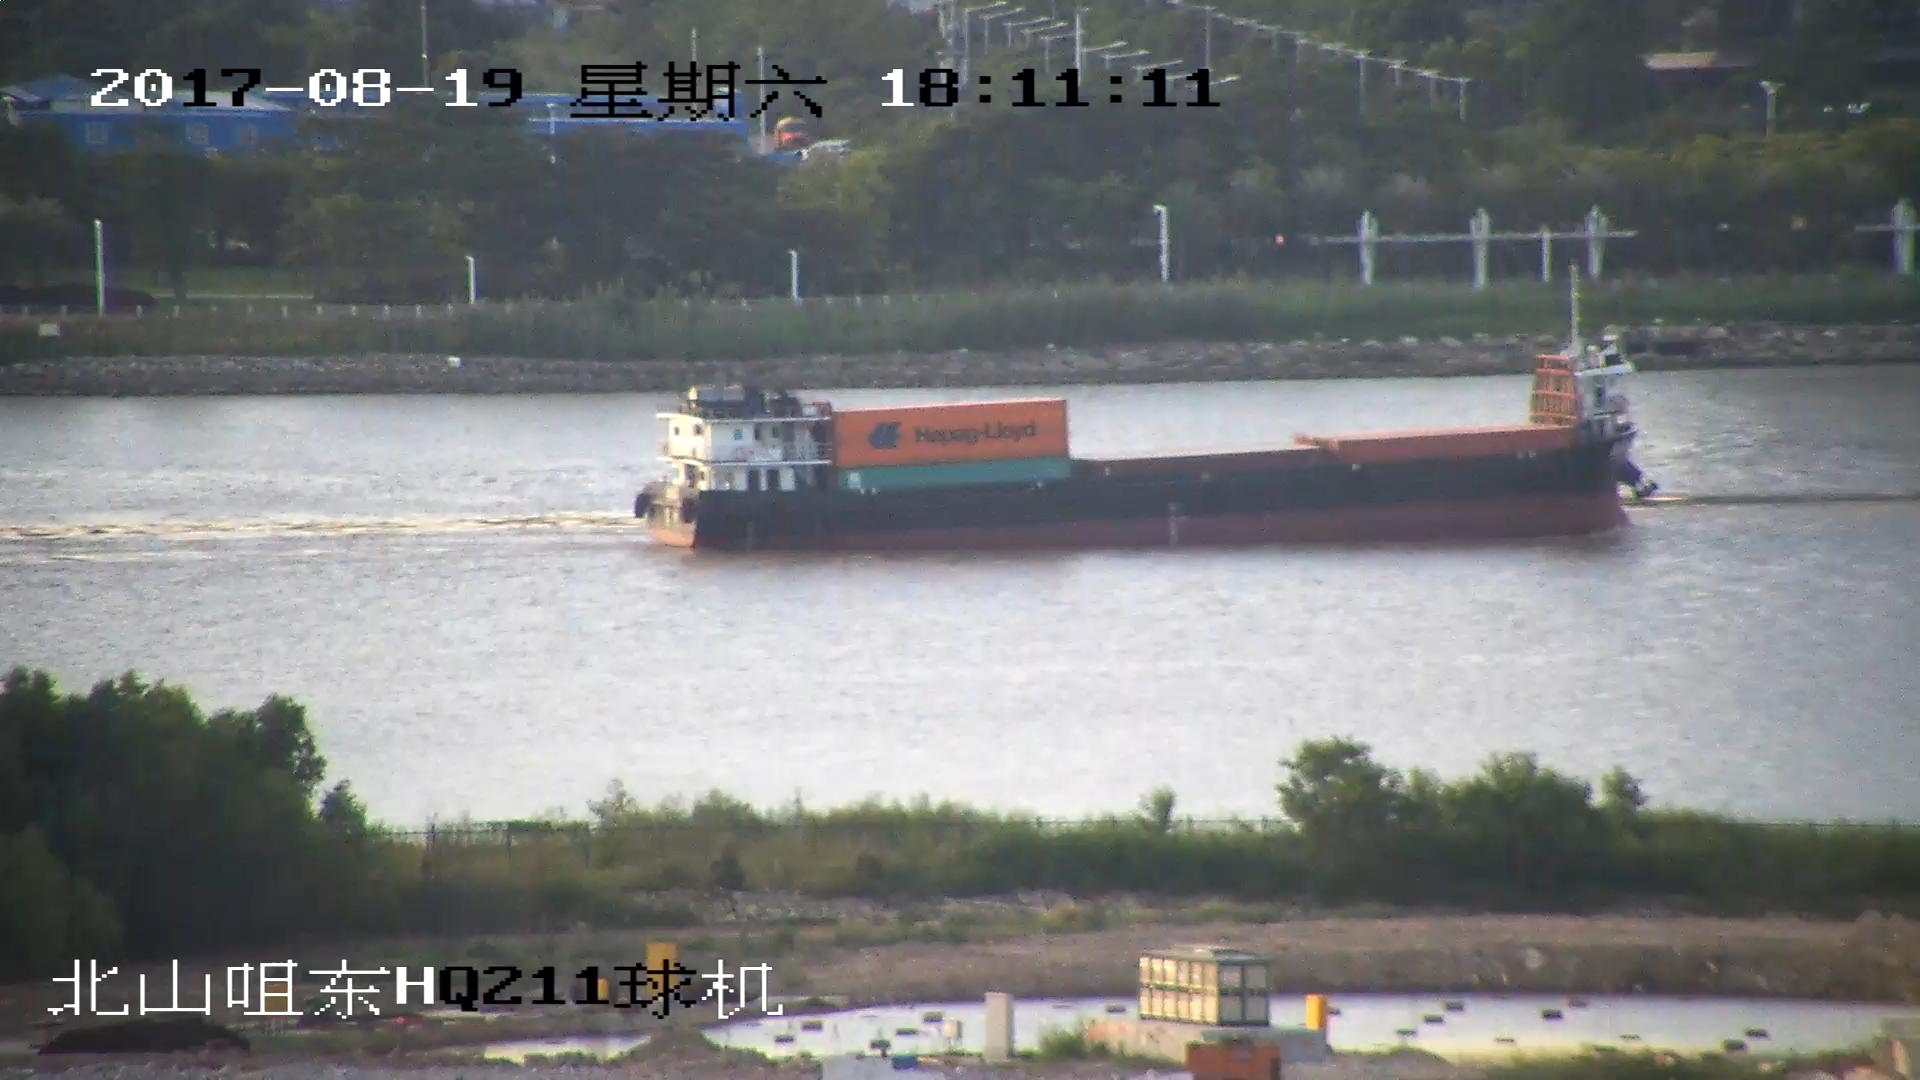container ship: (639, 295, 1656, 558)
